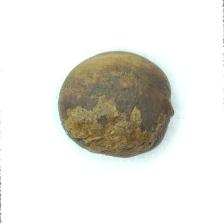NG: (61, 94, 166, 156)
